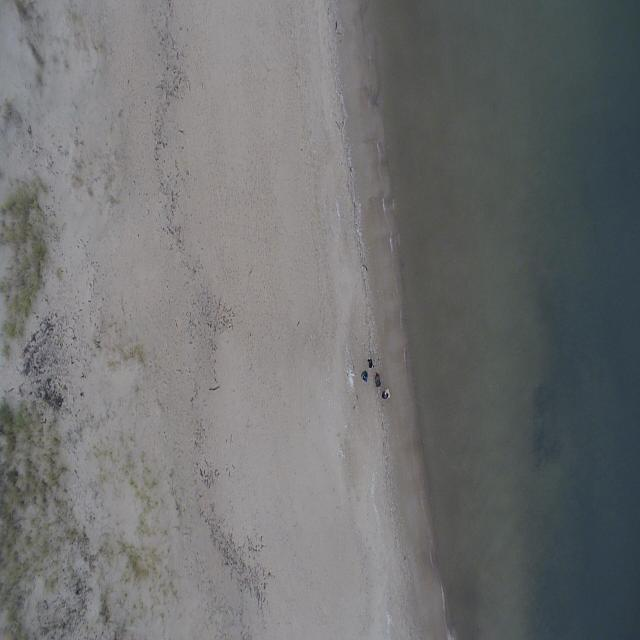p3rson: (361, 371, 368, 382), (367, 358, 374, 368), (382, 391, 389, 400), (375, 373, 380, 385)
